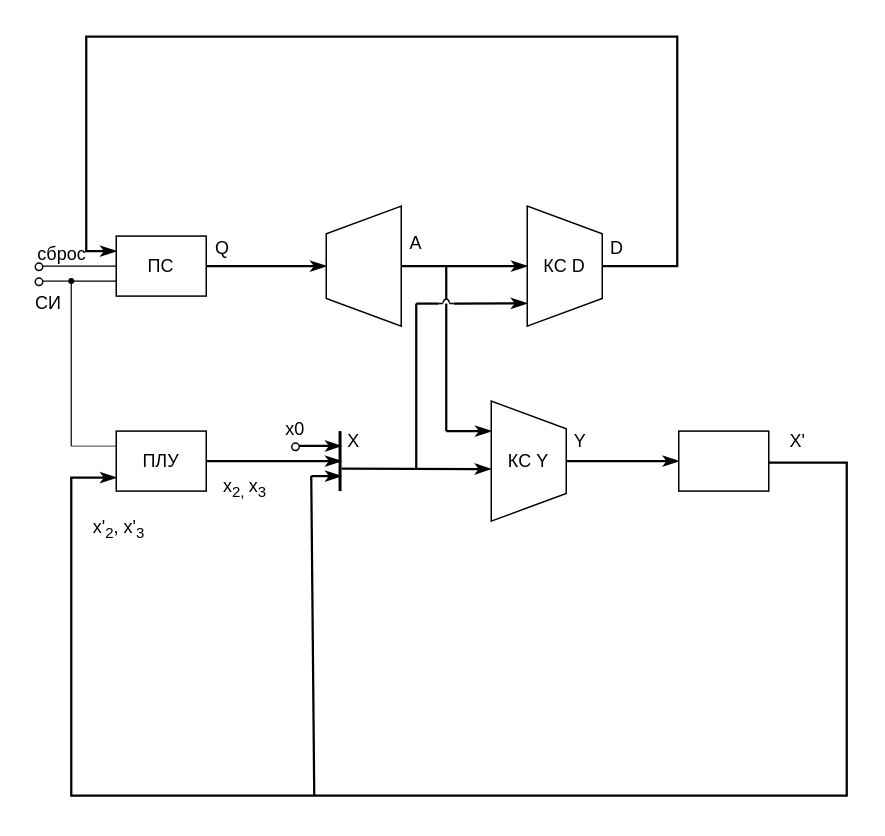
This 885x836 diagram has some shape labels left out. Each missing label, with the centre of its shape:
"ДШ" belongs at (x=363, y=265).
"ОА" belongs at (x=723, y=460).
